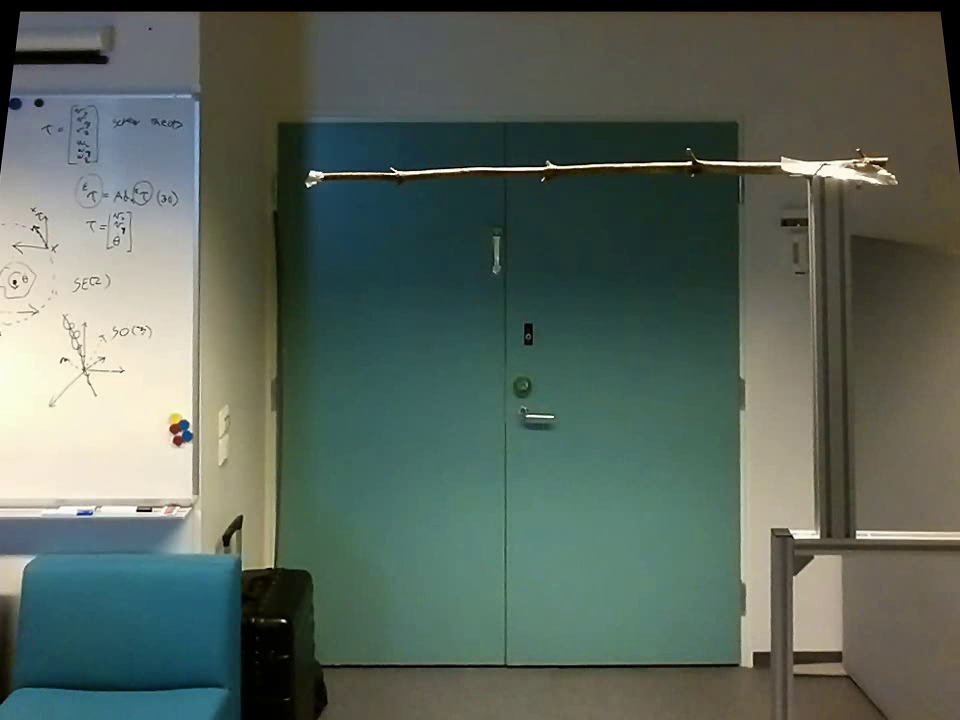aluminum_frame: (804, 180, 866, 537), (188, 101, 209, 499), (1, 492, 210, 526), (793, 525, 958, 560), (769, 527, 796, 717), (9, 85, 205, 105)
branch: (325, 139, 774, 195)
